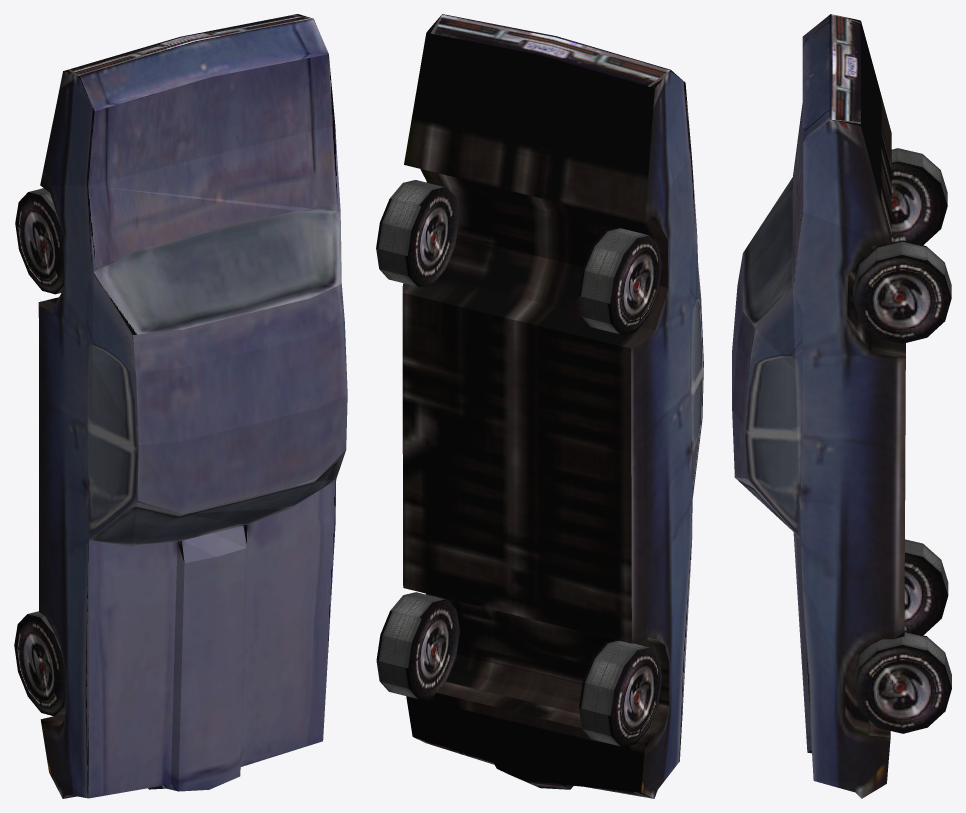
File: carpack_black_wtf.obj
The picture shows the model from 3 angles, left to right: view 1: azimuth 30°, elevation 25°; view 2: azimuth 150°, elevation 25°; view 3: azimuth 270°, elevation 25°; orthographic projection. The views are drawn at different scales.
Parts seen in each view (by area): view 1: group1; view 2: group1; view 3: group1.
Part boxes in pixels (bbox=[...]): group1: bbox=[14, 14, 347, 798]; group1: bbox=[376, 14, 703, 798]; group1: bbox=[732, 14, 951, 798].
Size of the model in its own units: 225 by 660 by 188.
